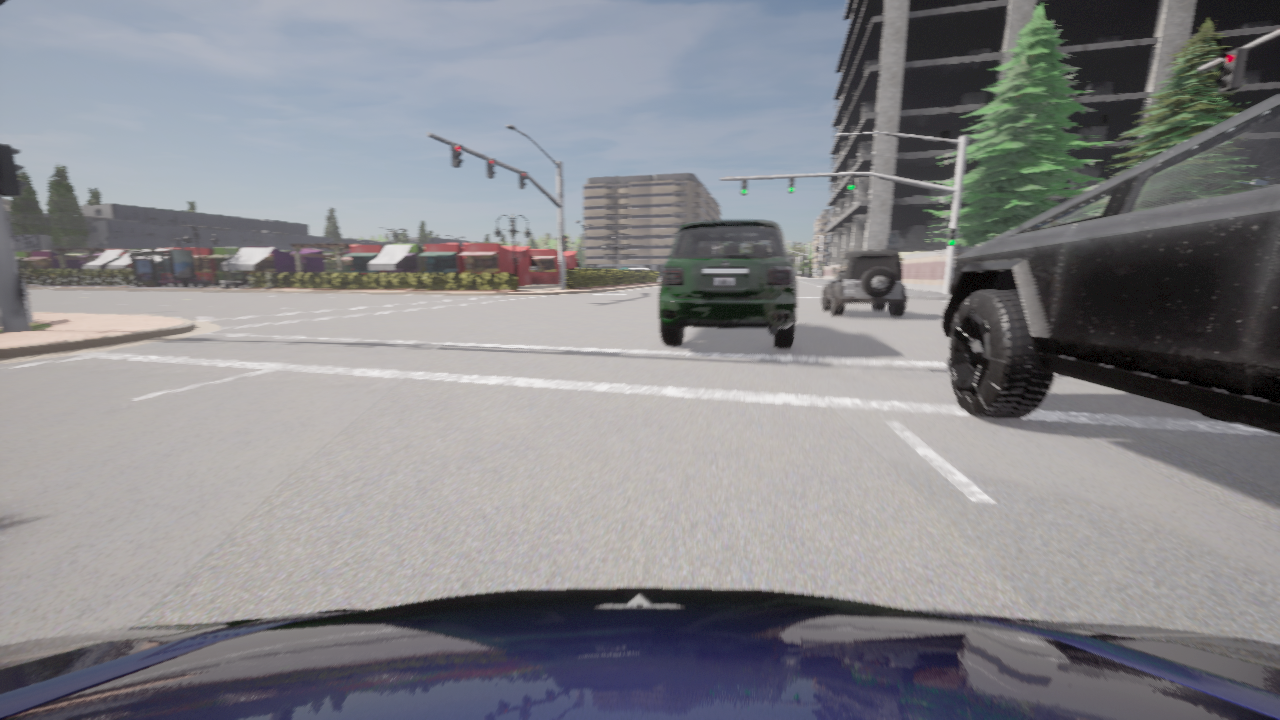cyclist: (0, 588, 1279, 719), (941, 94, 1279, 433), (659, 220, 797, 348), (822, 250, 906, 316), (630, 268, 650, 269)
